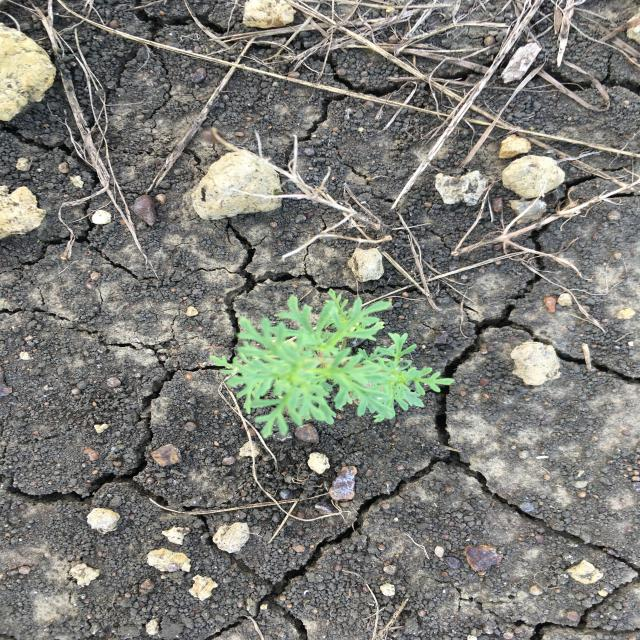Ragweed: (202, 284, 459, 439)
